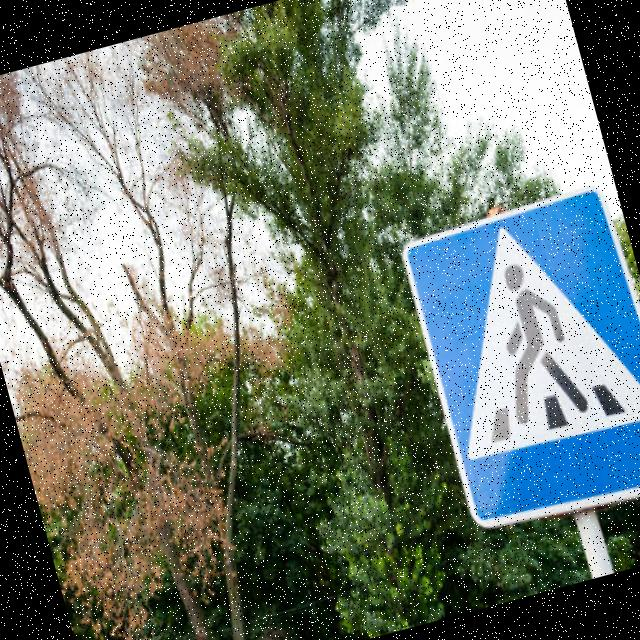crosswalk: (391, 172, 640, 549)
